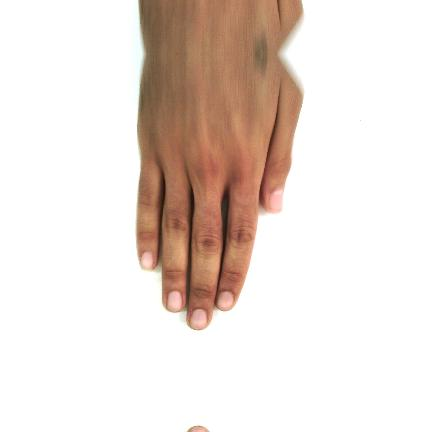Nail: (216, 291, 235, 311), (190, 309, 208, 330), (268, 188, 283, 213), (167, 291, 182, 312), (140, 251, 154, 271), (190, 426, 207, 432)
